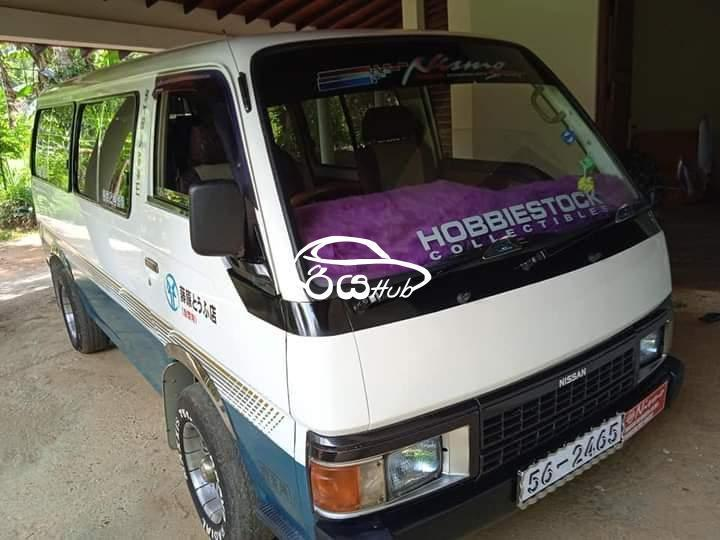van: (23, 29, 689, 531)
